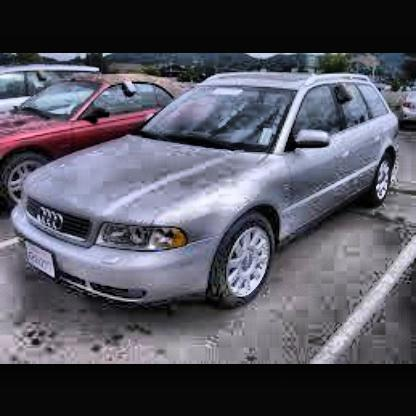Audi 100 Wagon 1994: (6, 65, 407, 318)
